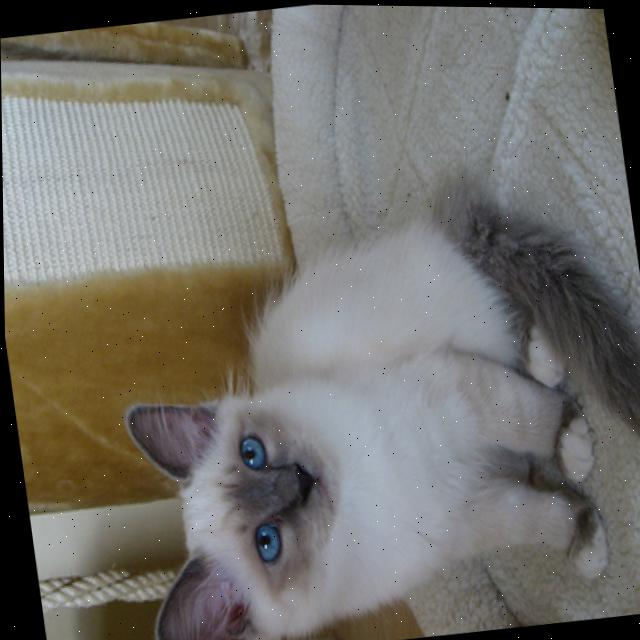Birman: (96, 156, 640, 640)
